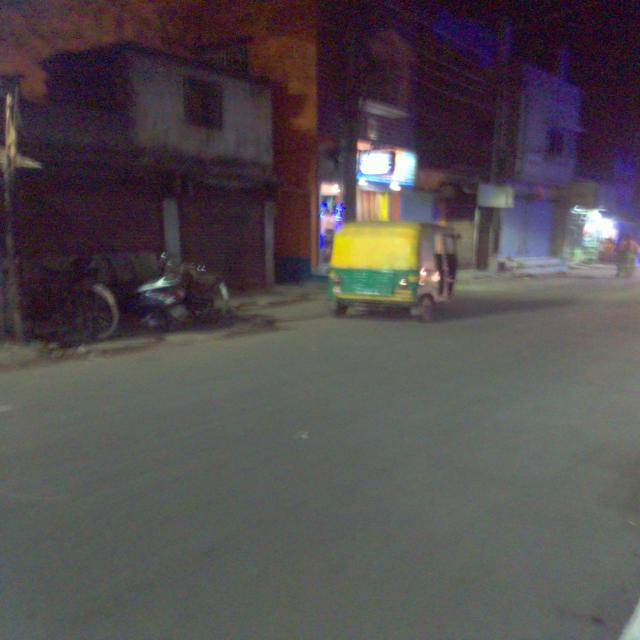Autorickshaw: (302, 211, 473, 327)
Bike: (60, 252, 199, 336)
